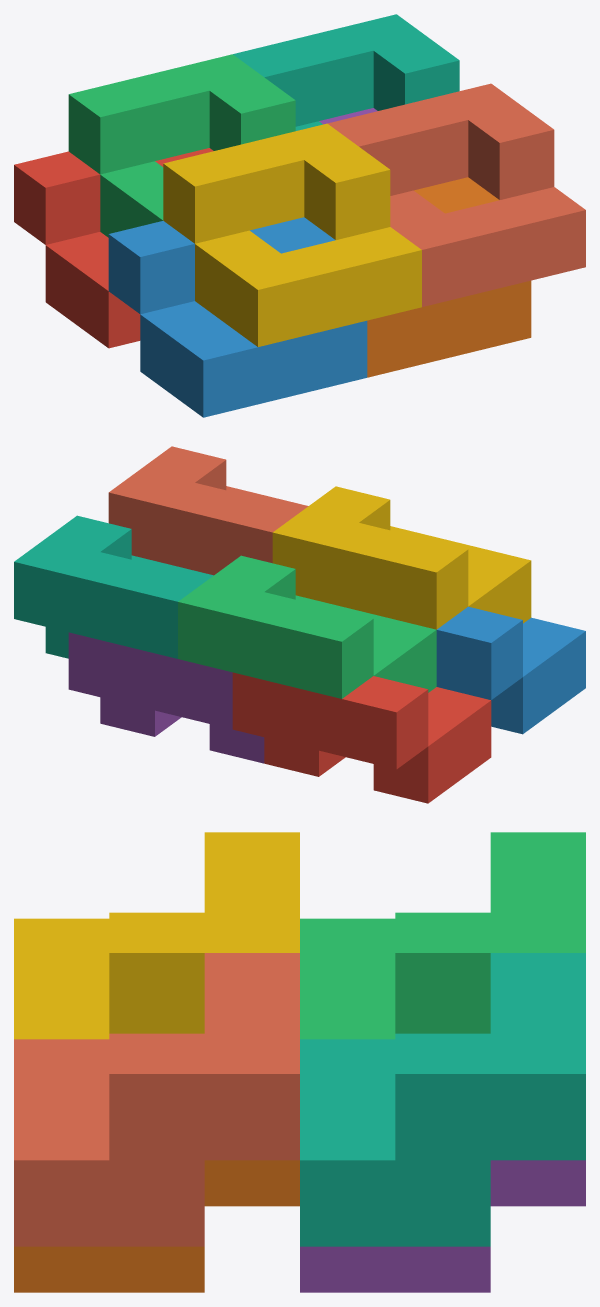
The model's file is tiling.obj.
3 renders of one model, top to bottom at view 1: azimuth 30°, elevation 25°; view 2: azimuth 150°, elevation 25°; view 3: azimuth 270°, elevation 25°, orthographic. The views are drawn at different scales.
Visible parts, largest first — view 1: copy_1_domain_4, copy_1_domain_8, copy_1_domain_2, copy_1_domain_3, copy_1_domain_7, copy_1_domain_1, copy_1_domain_6; view 2: copy_1_domain_3, copy_1_domain_1, copy_1_domain_4, copy_1_domain_7, copy_1_domain_8, copy_1_domain_2, copy_1_domain_5; view 3: copy_1_domain_7, copy_1_domain_8, copy_1_domain_3, copy_1_domain_4, copy_1_domain_5, copy_1_domain_6.
Part boxes in pixels (box(x1,y1,x2,y2)): copy_1_domain_4: box(163, 123, 421, 346); copy_1_domain_8: box(327, 83, 585, 306); copy_1_domain_2: box(108, 217, 367, 417); copy_1_domain_3: box(68, 54, 295, 237); copy_1_domain_7: box(233, 14, 459, 130); copy_1_domain_1: box(14, 148, 213, 348); copy_1_domain_6: box(367, 177, 531, 377); copy_1_domain_3: box(178, 555, 436, 698); copy_1_domain_1: box(232, 672, 491, 803); copy_1_domain_4: box(272, 486, 531, 629); copy_1_domain_7: box(14, 515, 213, 658); copy_1_domain_8: box(108, 446, 308, 575); copy_1_domain_2: box(436, 606, 585, 734); copy_1_domain_5: box(68, 632, 264, 763); copy_1_domain_7: box(300, 953, 585, 1246); copy_1_domain_8: box(14, 953, 299, 1246); copy_1_domain_3: box(300, 832, 585, 1039); copy_1_domain_4: box(14, 832, 299, 1039); copy_1_domain_5: box(300, 1160, 585, 1292); copy_1_domain_6: box(14, 1160, 299, 1292).
Bounding box in the file's own units: 7 × 3 × 6.
